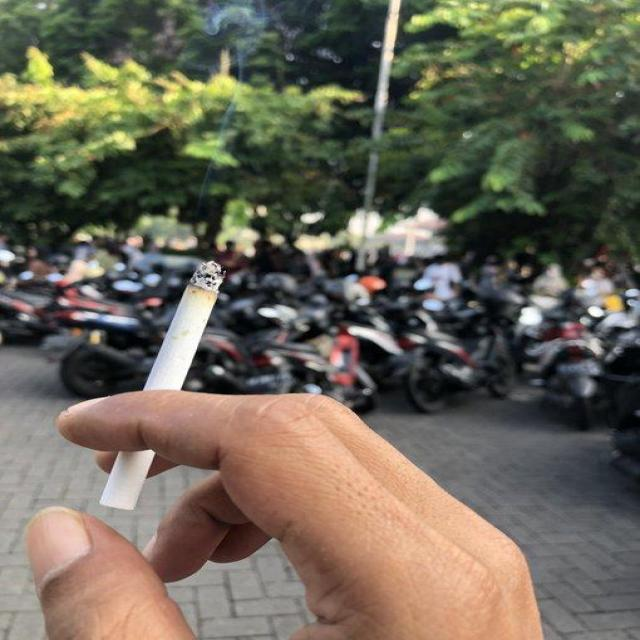rokok: (102, 262, 228, 508)
